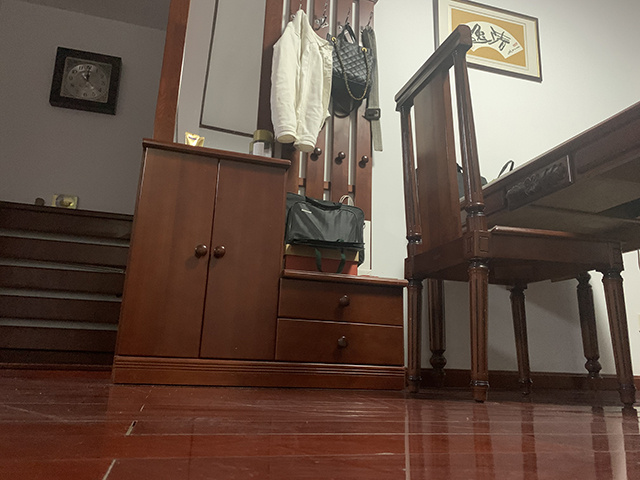cabinet: (109, 136, 408, 392)
stool: (394, 23, 640, 409)
table: (426, 101, 640, 390)
